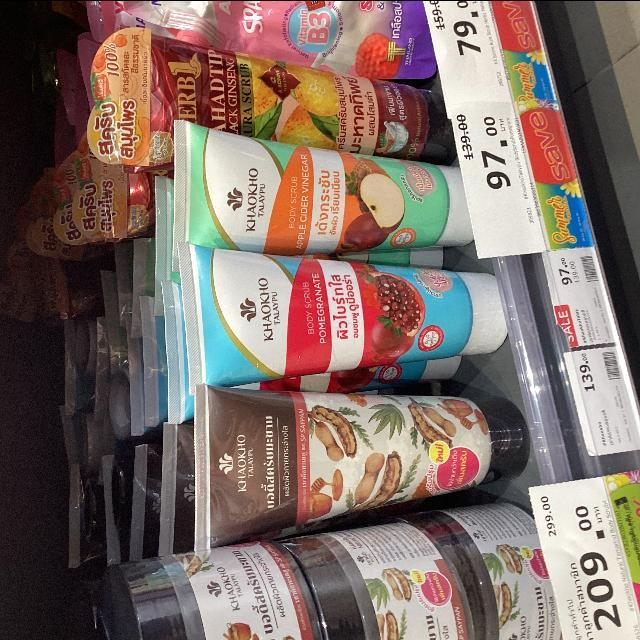Squeeze Tube: (48, 10, 569, 543), (188, 382, 535, 542), (170, 114, 475, 259), (183, 252, 510, 383)
